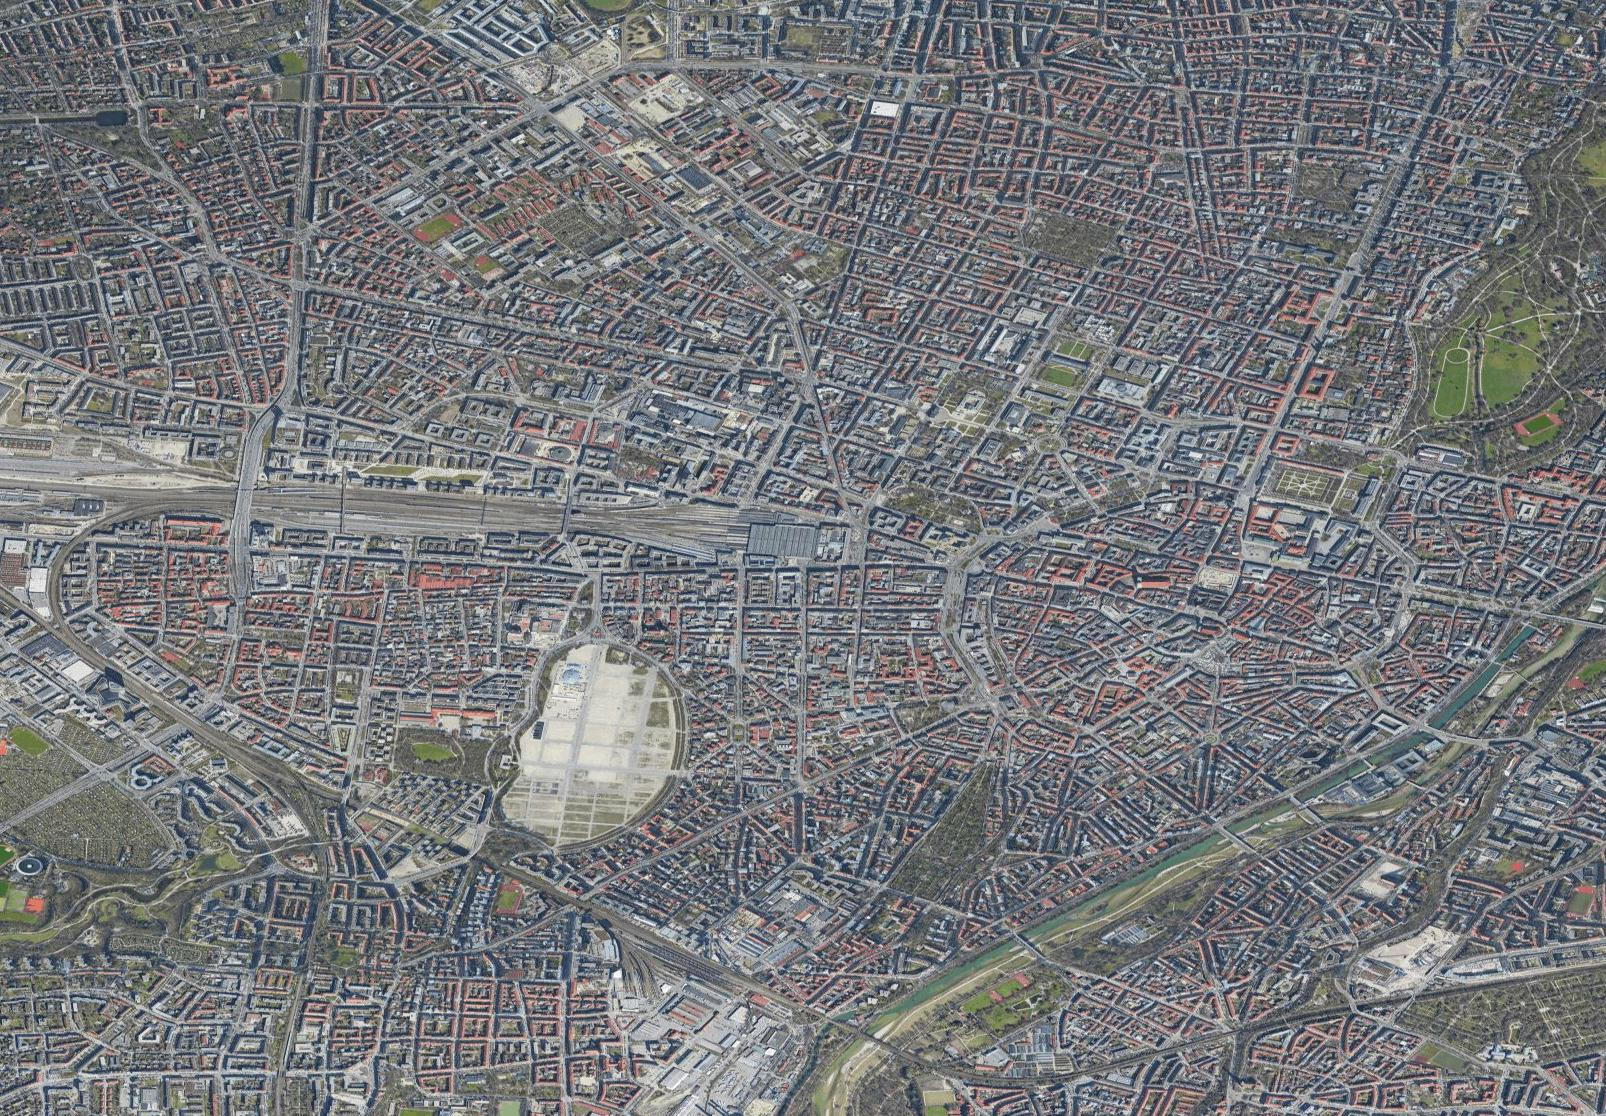bridge: (222, 474, 260, 519), (1010, 927, 1039, 956), (1217, 821, 1245, 849), (1284, 789, 1309, 814), (1418, 716, 1442, 740)
train_station: (727, 492, 855, 579)
